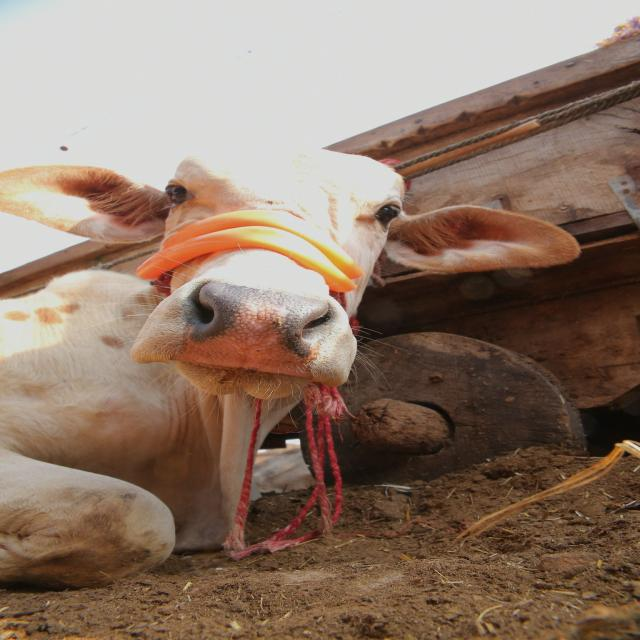muzzles: (178, 273, 342, 381)
